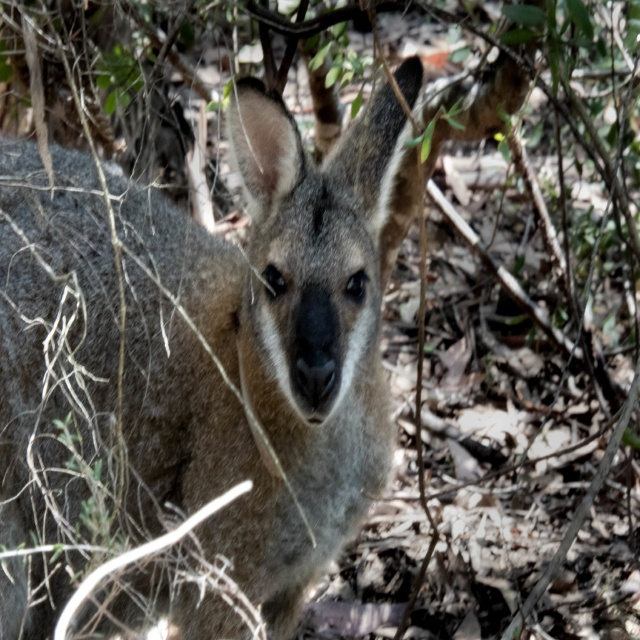Kangaroo: (0, 53, 425, 640)
